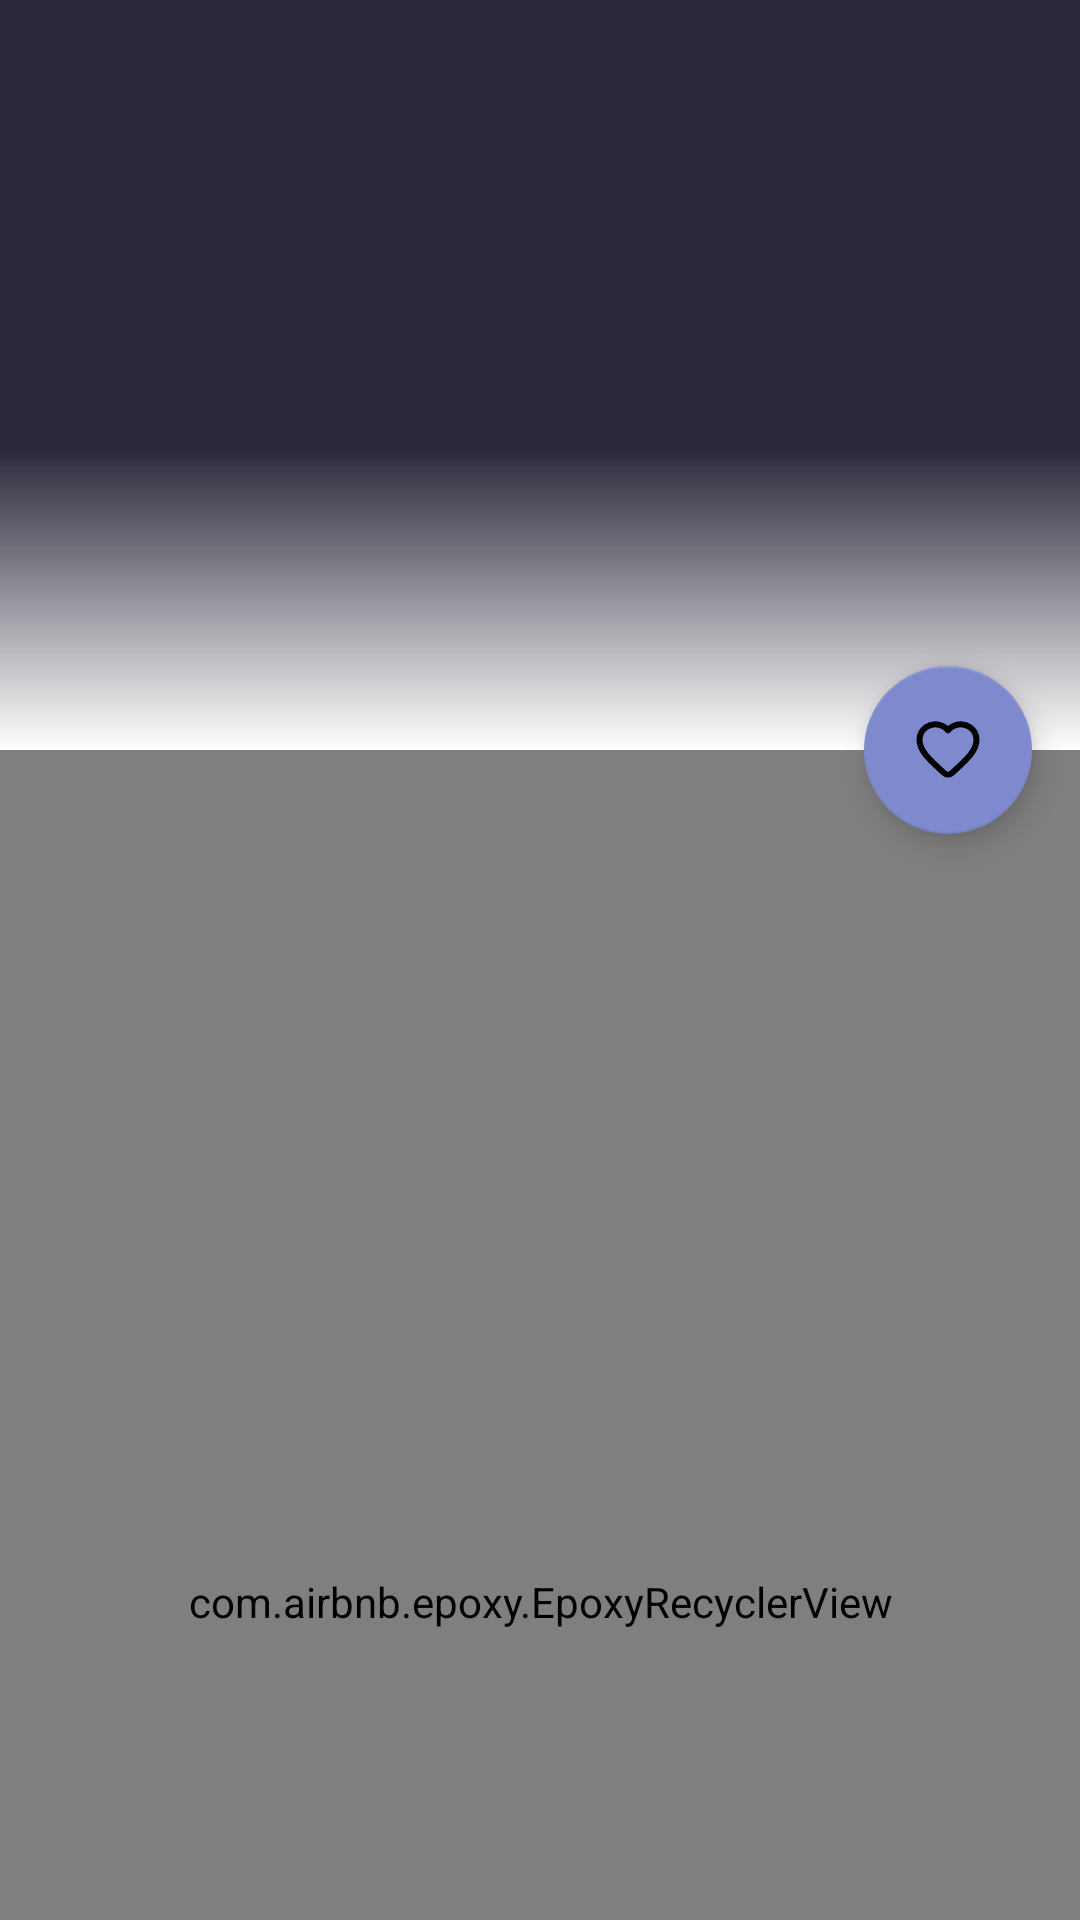

Named icons in this screenshot (1080px×1920px) and their centers, point (x, y):
heart: point (948, 750)
